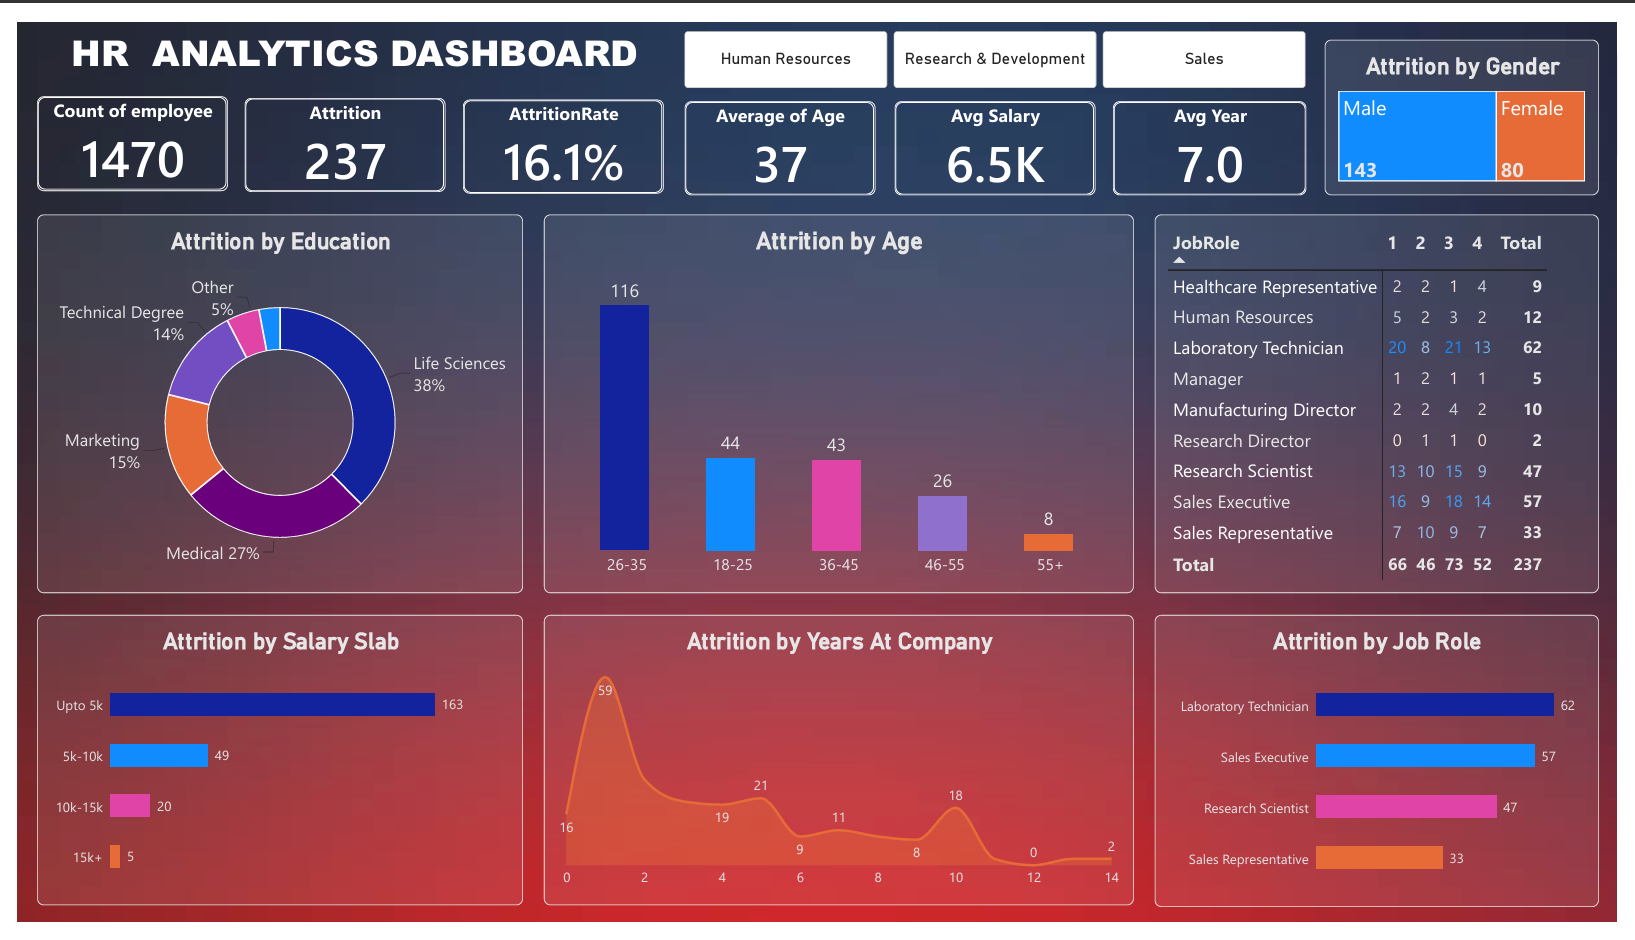

What the dashboard file says about the page in this screenshot:
{"tool":"powerbi","page":{"name":"Page 1","canvas":[1920,1080],"ordinal":0},"visuals":[{"type":"cardVisual","fields":{"Data":["Count(HR_Analytics.EmpID)"]},"box":[23.4,88.5,228.8,113.5],"z":0},{"type":"cardVisual","title":"A","fields":{"Data":["Sum(HR_Analytics.AttritionCount)"]},"box":[272.2,90.2,240.8,113.2],"z":1000},{"type":"cardVisual","fields":{"Data":["Avg(HR_Analytics.Age)"]},"box":[799.8,93.5,228.8,113.5],"z":2000},{"type":"cardVisual","fields":{"Data":["HR_Analytics.AttritionRate"]},"box":[534.3,91.8,240.8,113.2],"z":3000},{"type":"cardVisual","fields":{"Data":["Avg(HR_Analytics.MonthlyIncome)"]},"box":[1052,93.5,240.8,113.2],"z":4000},{"type":"cardVisual","fields":{"Data":["Avg(HR_Analytics.YearsAtCompany)"]},"box":[1314.1,93.5,232.1,113.5],"z":5000},{"type":"donutChart","title":" Attrition by Education","fields":{"Category":["HR_Analytics.EducationField"],"Y":["Sum(HR_Analytics.AttritionCount)"]},"box":[23.4,230.4,582.7,454.2],"z":6000},{"type":"columnChart","title":" Attrition by Age","fields":{"Category":["HR_Analytics.AgeGroup"],"Y":["Sum(HR_Analytics.AttritionCount)"]},"box":[631.2,230.4,708,454.2],"z":7000},{"type":"pivotTable","fields":{"Columns":["HR_Analytics.JobSatisfaction"],"Rows":["HR_Analytics.JobRole"],"Values":["Sum(HR_Analytics.AttritionCount)"]},"box":[1364.2,230.4,532.7,454.2],"z":8000},{"type":"clusteredBarChart","title":" Attrition by Salary Slab","fields":{"Category":["HR_Analytics.SalarySlab"],"Y":["Sum(HR_Analytics.AttritionCount)"]},"box":[23.4,711.3,582.7,349],"z":9000},{"type":"clusteredBarChart","title":" Attrition by Job Role","fields":{"Category":["HR_Analytics.JobRole"],"Y":["Sum(HR_Analytics.AttritionCount)"]},"box":[1364.2,711.3,532.7,350.7],"z":10000},{"type":"areaChart","title":" Attrition by Years At Company","fields":{"Category":["HR_Analytics.YearsAtCompany"],"Y":["Sum(HR_Analytics.AttritionCount)"]},"box":[631.2,711.3,708,349],"z":11000},{"type":"treemap","title":" Attrition by Gender","fields":{"Group":["HR_Analytics.Gender"],"Values":["Sum(HR_Analytics.AttritionCount)"]},"box":[1567.9,20,328.9,187],"z":12000},{"type":"advancedSlicerVisual","fields":{"Values":["HR_Analytics.Department"]},"box":[799.8,10,746.4,68.5],"z":13000},{"type":"textbox","box":[51.8,5,704.6,78.5],"z":14000}]}

Visuals, with their boxes in screenshot pixels (x1, y1, x2, y2), scaled from the page's 1920x1080 canvas onto the 1635x940 screenshot:
cardVisual - Count(HR_Analytics.EmpID): [20,77,215,176]
"A" cardVisual: [232,79,437,177]
cardVisual - Avg(HR_Analytics.Age): [681,81,876,180]
cardVisual - HR_Analytics.AttritionRate: [455,80,660,178]
cardVisual - Avg(HR_Analytics.MonthlyIncome): [896,81,1101,180]
cardVisual - Avg(HR_Analytics.YearsAtCompany): [1119,81,1317,180]
" Attrition by Education" donutChart: [20,201,516,596]
" Attrition by Age" columnChart: [538,201,1140,596]
pivotTable - HR_Analytics.JobSatisfaction x HR_Analytics.JobRole: [1162,201,1615,596]
" Attrition by Salary Slab" clusteredBarChart: [20,619,516,923]
" Attrition by Job Role" clusteredBarChart: [1162,619,1615,924]
" Attrition by Years At Company" areaChart: [538,619,1140,923]
" Attrition by Gender" treemap: [1335,17,1615,180]
advancedSlicerVisual - HR_Analytics.Department: [681,9,1317,68]
textbox: [44,4,644,73]
